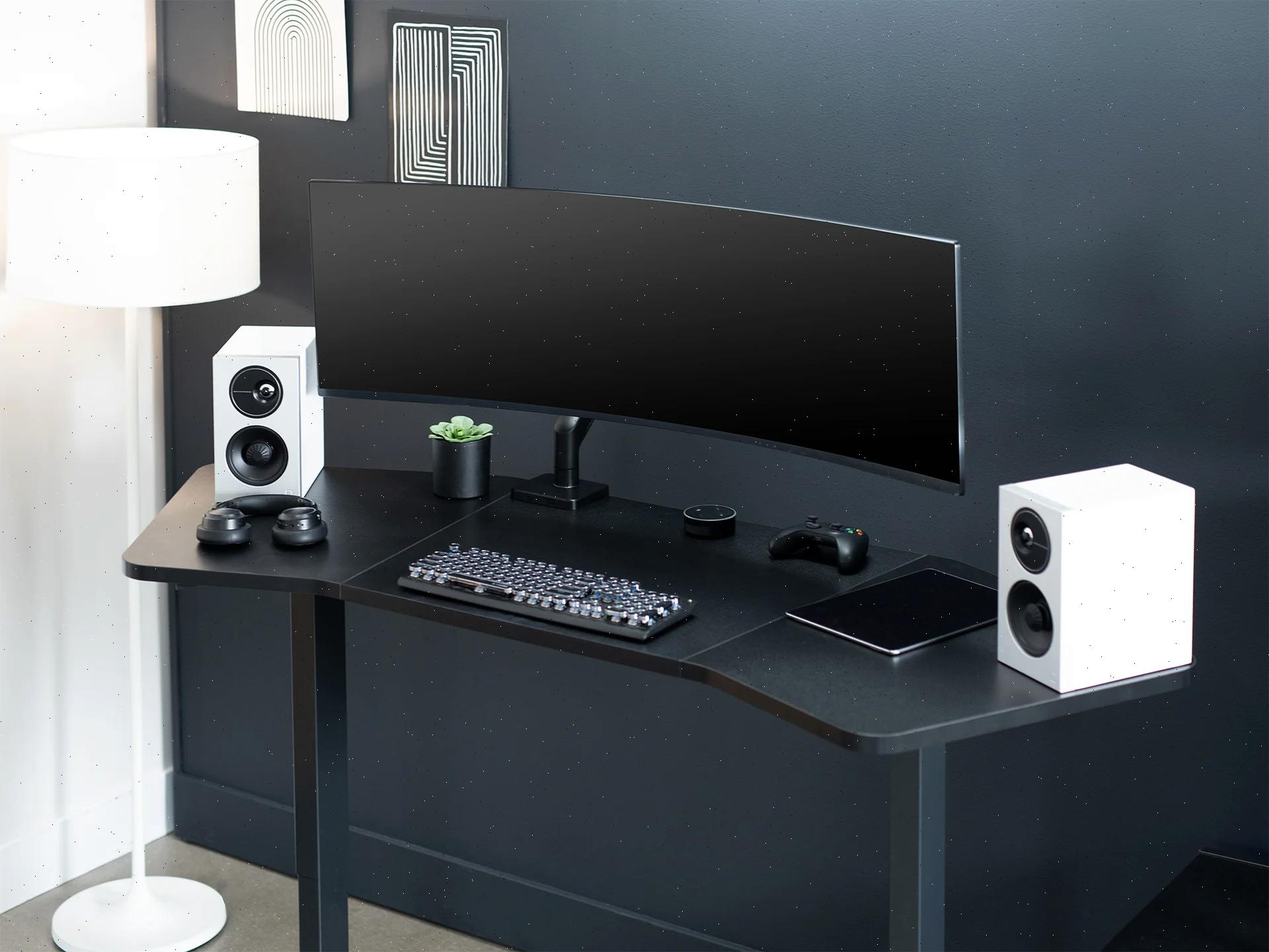head_phone: (194, 483, 333, 557)
joy_game: (763, 499, 878, 576)
keyboard: (399, 530, 700, 653)
monitor: (301, 155, 984, 523)
speaker: (986, 456, 1210, 701), (202, 313, 333, 507)
